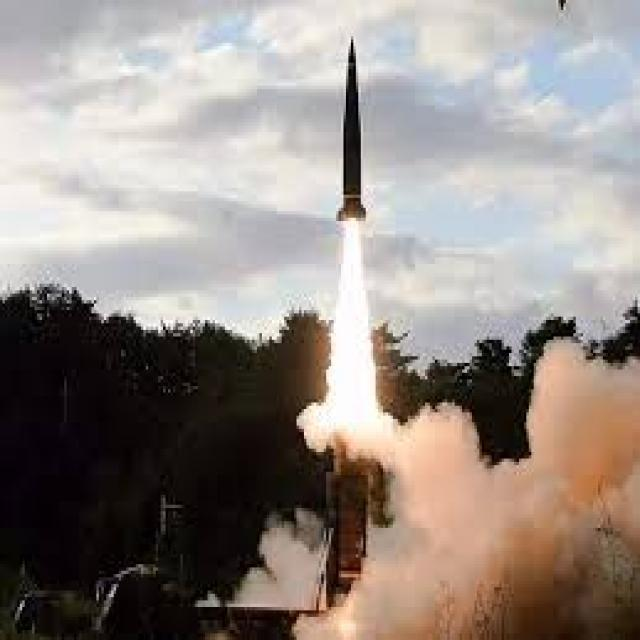missile: (332, 34, 368, 222)
